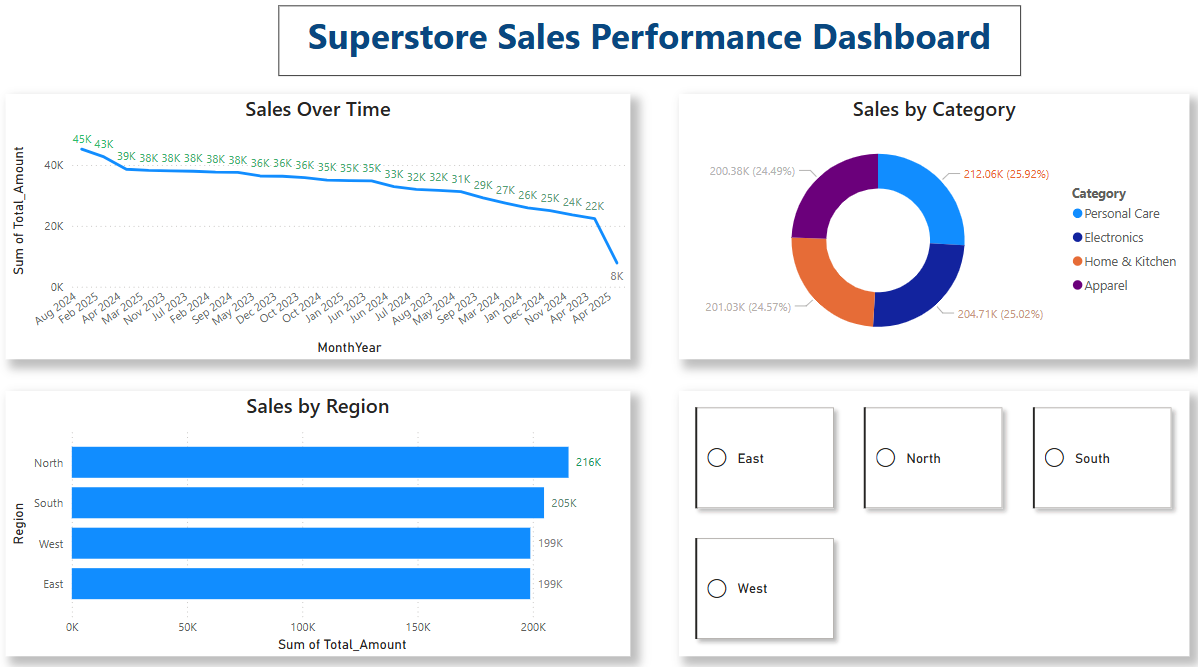

The page's visual inventory and layout, read from the dashboard file:
{"tool":"powerbi","page":{"name":"Page 1","canvas":[1280,720],"ordinal":0},"visuals":[{"type":"lineChart","title":"Sales Over Time","fields":{"Category":["sales_data_cleaned.MonthYear"],"Y":["Sum(sales_data_cleaned.Total_Amount)"]},"box":[14.4,108.7,662.6,281],"z":0},{"type":"barChart","title":"Sales by Region","fields":{"Y":["Sum(sales_data_cleaned.Total_Amount)"],"Category":["customers_cleaned.Region"]},"box":[14.4,422.6,662.6,281],"z":1},{"type":"donutChart","title":"Sales by Category","fields":{"Y":["Sum(sales_data_cleaned.Total_Amount)"],"Category":["products_cleaned.Category"]},"box":[728.2,108.7,541.5,281],"z":2},{"type":"advancedSlicerVisual","fields":{"Values":["customers_cleaned.Region"]},"box":[728.2,422.6,541.5,281],"z":3},{"type":"textbox","box":[303.8,14.3,787.4,74.8],"z":4}]}

Visuals, with their boxes in screenshot pixels (x1, y1, x2, y2), scaled from the page's 1280x720 canvas onto the 1198x667 screenshot:
"Sales Over Time" lineChart: bbox(13, 101, 634, 361)
"Sales by Region" barChart: bbox(13, 391, 634, 652)
"Sales by Category" donutChart: bbox(682, 101, 1188, 361)
advancedSlicerVisual - customers_cleaned.Region: bbox(682, 391, 1188, 652)
textbox: bbox(284, 13, 1021, 83)
